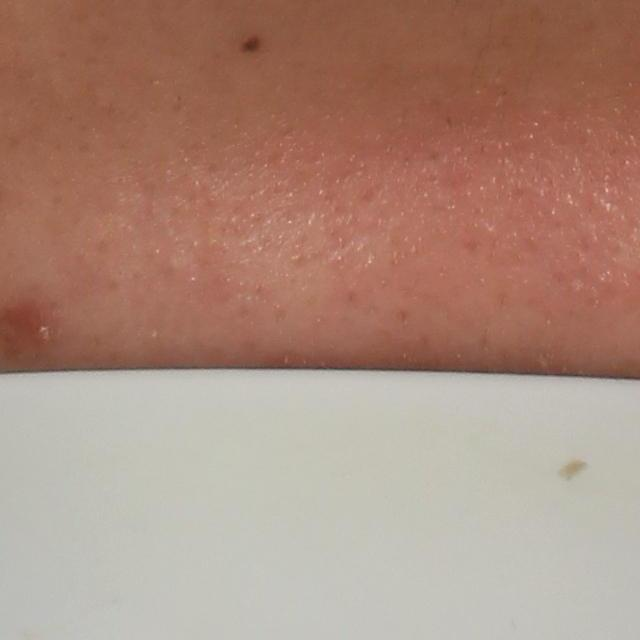nevus: (231, 24, 265, 62)
